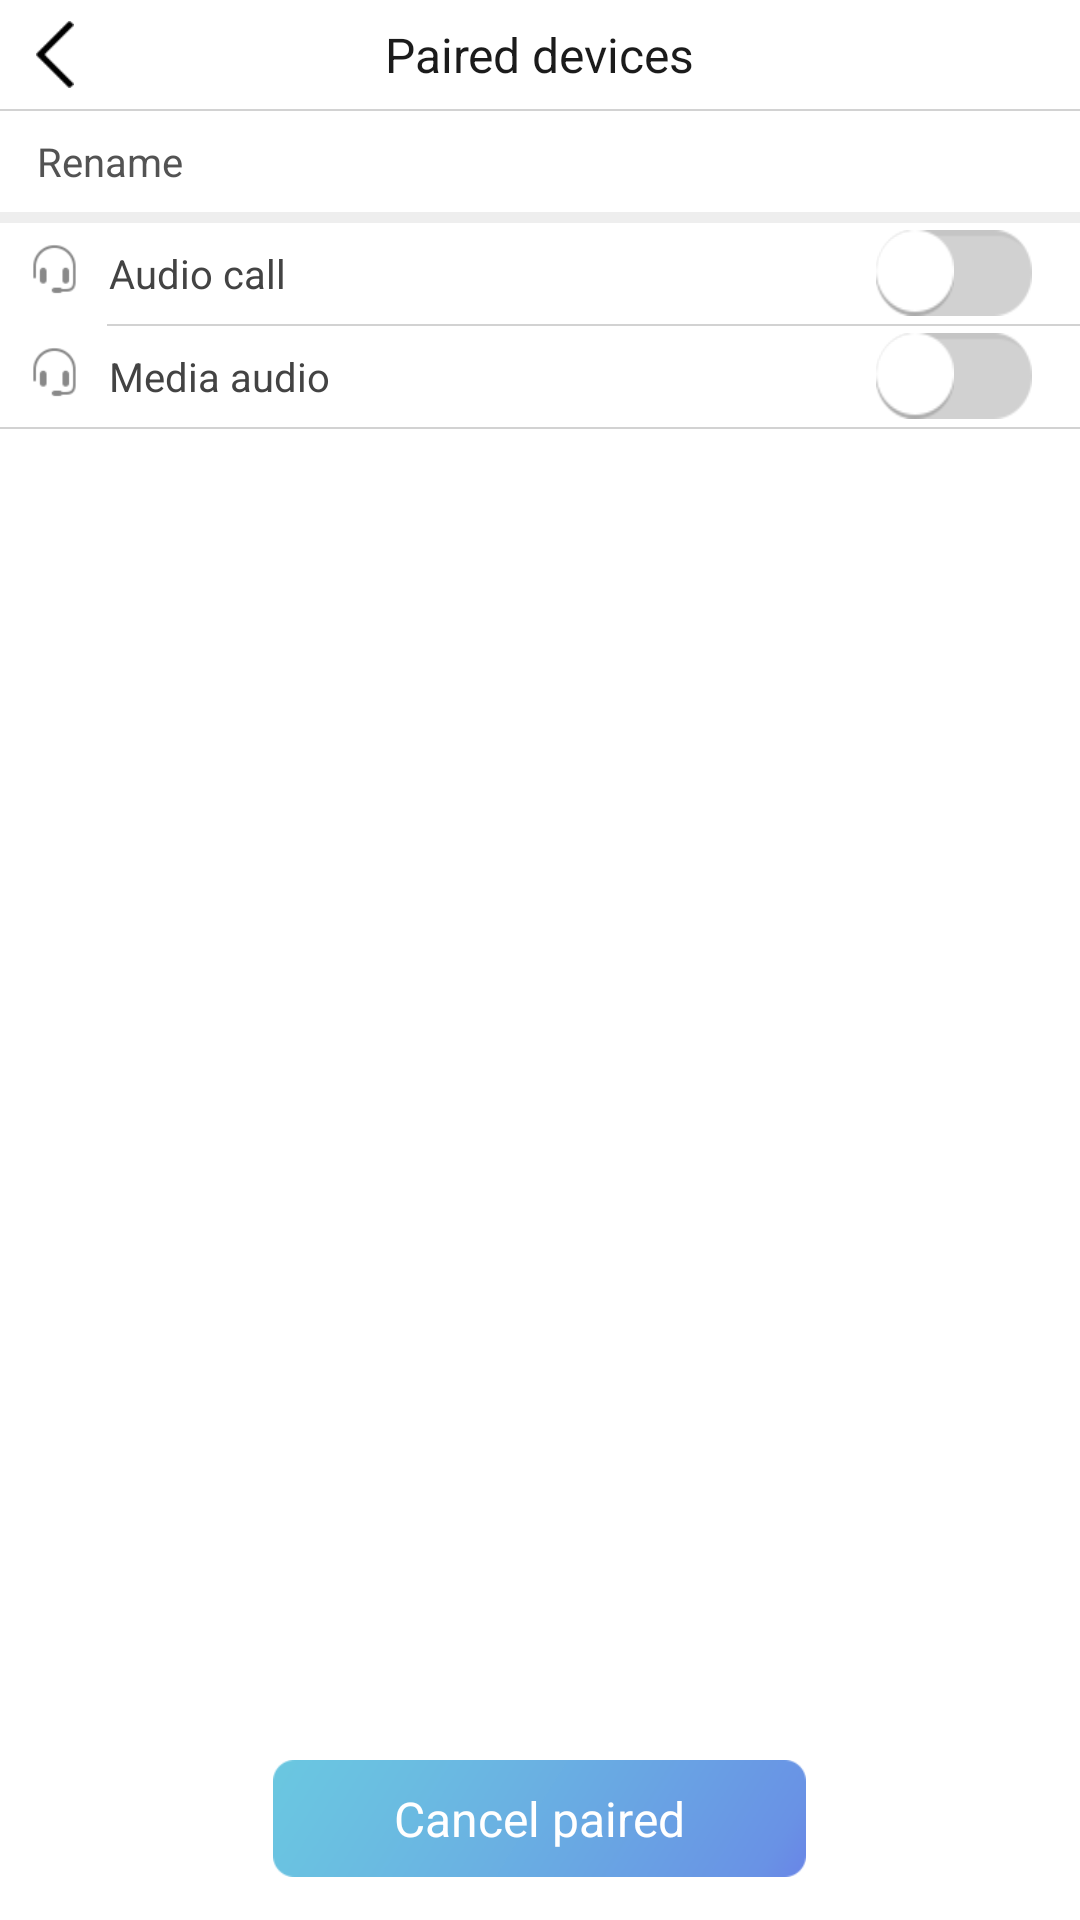

Locate icon controls on the screen. Image size 1080*1920, boxes as detection(x1, y1, x2, y2).
back: detection(36, 21, 74, 88)
